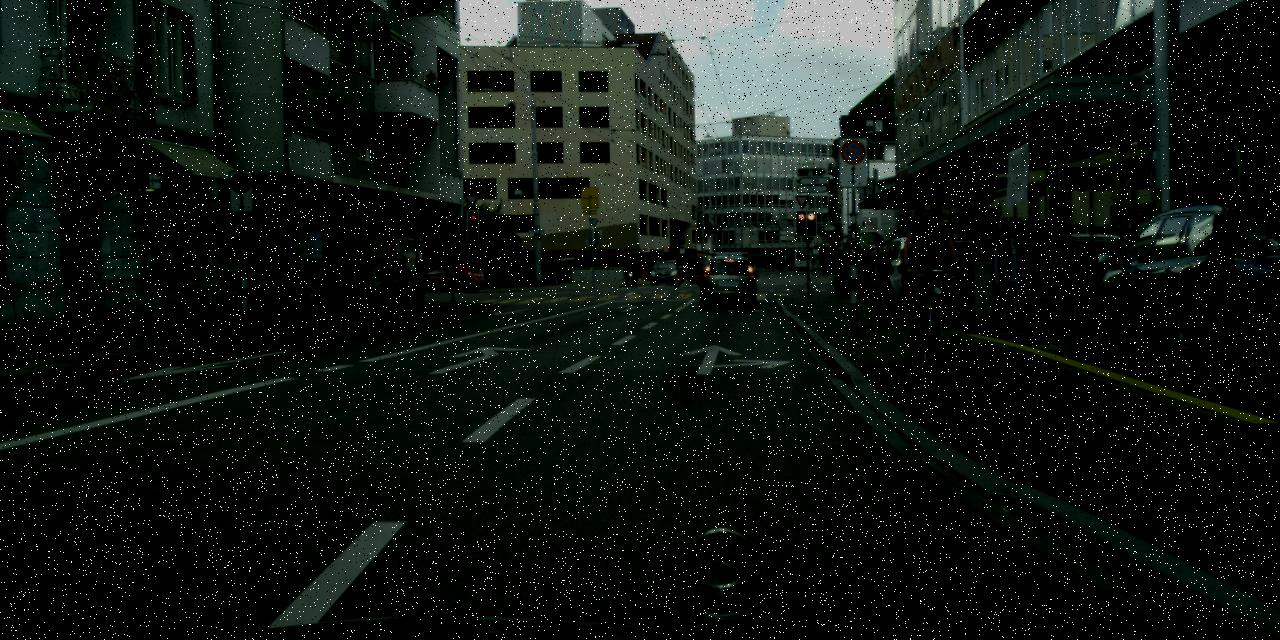ped: (899, 200, 955, 336), (862, 234, 896, 318), (896, 238, 928, 316), (625, 258, 636, 286), (685, 255, 695, 281)
